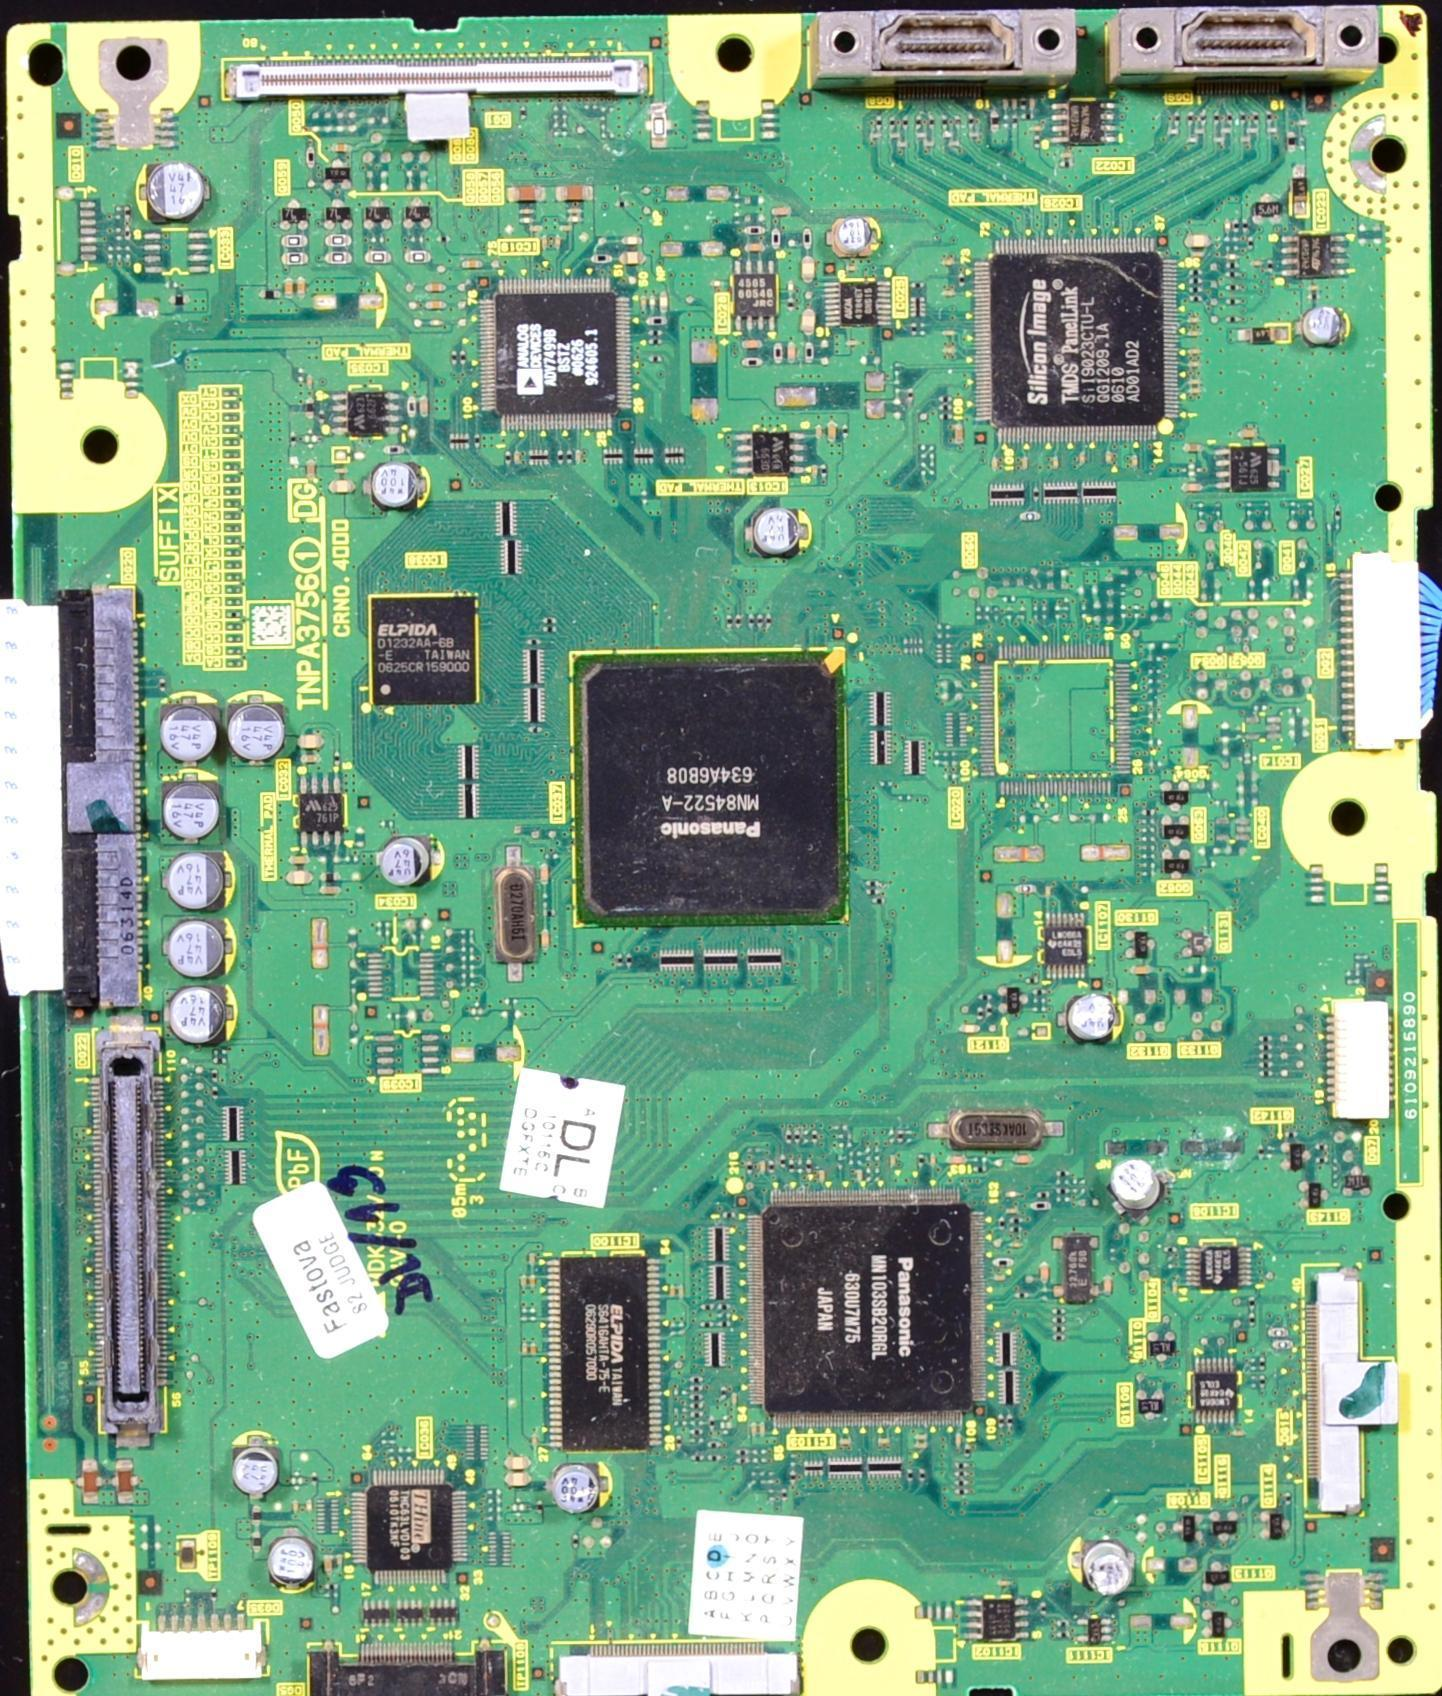Capacitor: (163, 770, 217, 844), (158, 700, 221, 763), (166, 981, 226, 1047), (168, 911, 225, 978), (169, 851, 232, 906), (145, 163, 202, 220), (232, 697, 283, 758), (368, 460, 427, 510), (551, 1465, 603, 1519), (751, 505, 804, 559), (1085, 1542, 1134, 1598), (1067, 991, 1117, 1045), (381, 838, 425, 887), (235, 1446, 278, 1493), (270, 1540, 313, 1583), (831, 218, 872, 255), (1301, 308, 1342, 344), (507, 181, 549, 204), (552, 184, 594, 204), (285, 871, 318, 890), (503, 1455, 536, 1472), (801, 308, 818, 340), (800, 255, 818, 285), (504, 1471, 529, 1493), (616, 252, 645, 264), (1186, 234, 1213, 248), (786, 341, 797, 364), (740, 340, 771, 349)
IC: (565, 642, 849, 922), (738, 1192, 984, 1431), (974, 238, 1182, 448), (478, 280, 631, 432), (547, 1256, 662, 1454), (350, 1474, 468, 1586), (366, 595, 479, 703), (293, 776, 352, 851), (737, 429, 815, 481), (331, 390, 406, 441), (1049, 93, 1117, 148), (960, 1595, 1032, 1645), (1192, 1358, 1242, 1428), (823, 280, 893, 330), (1281, 235, 1348, 281), (730, 258, 779, 320), (1213, 448, 1282, 492), (1184, 1245, 1255, 1287), (1041, 914, 1086, 978), (1073, 1615, 1115, 1648)
Resistor: (323, 233, 356, 251), (363, 248, 393, 265), (279, 232, 311, 247), (402, 249, 431, 266), (279, 251, 310, 264), (321, 251, 355, 263)
Transistor: (1158, 809, 1196, 848), (1142, 1327, 1181, 1364), (1120, 926, 1156, 965), (1210, 1509, 1245, 1548), (993, 985, 1034, 1017), (399, 197, 434, 234), (321, 156, 354, 194), (1158, 848, 1196, 881), (1177, 926, 1212, 962), (1297, 1175, 1331, 1213), (1172, 1511, 1204, 1548), (1258, 1506, 1289, 1545), (1200, 1607, 1236, 1640), (323, 199, 358, 231), (1282, 1138, 1307, 1181), (1343, 1163, 1372, 1201), (1133, 1387, 1164, 1420), (362, 200, 395, 231), (1203, 1558, 1232, 1593), (1152, 781, 1189, 808), (279, 201, 311, 232)
